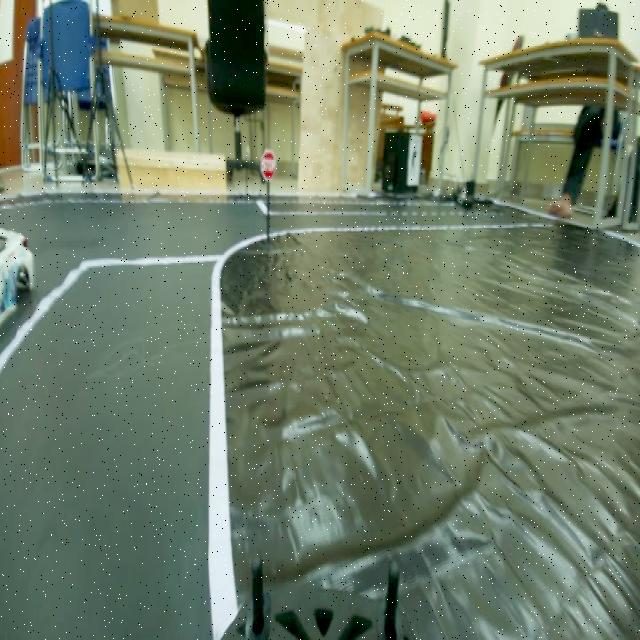stop: (257, 140, 278, 193)
